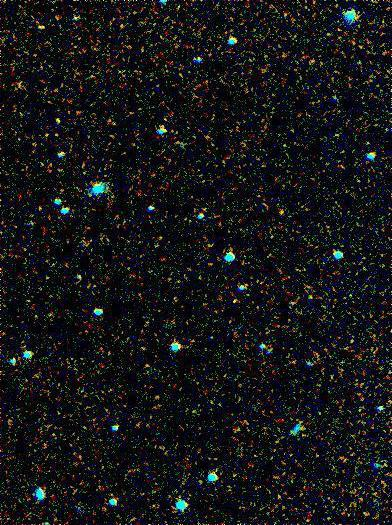star: (221, 283, 251, 313)
